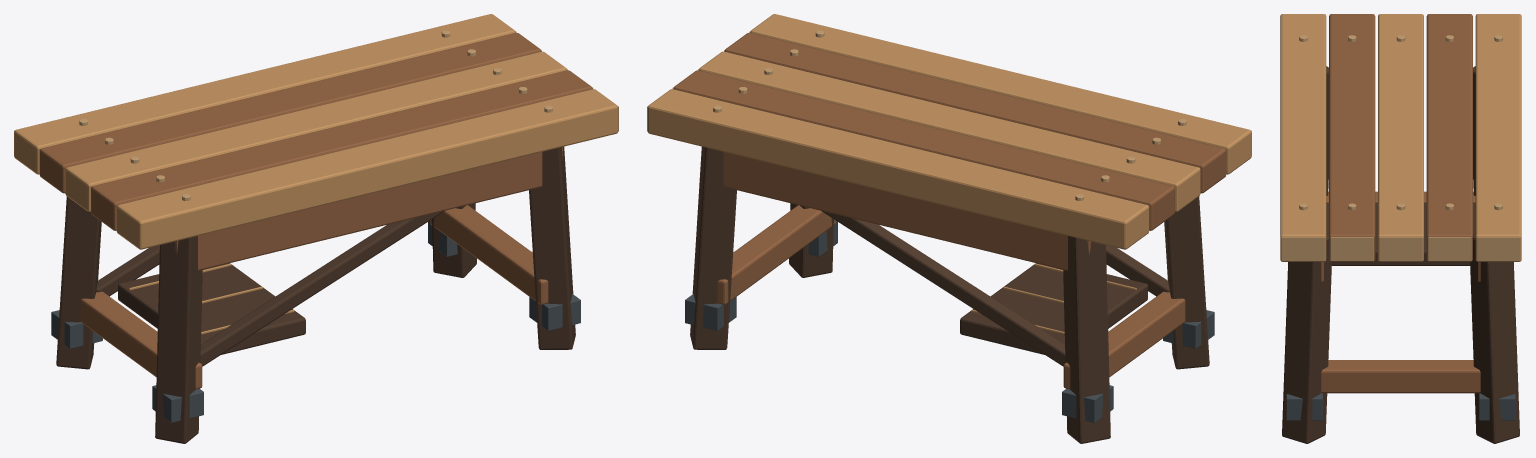
File: work_table.glb
The picture shows the model from 3 angles, left to right: view 1: azimuth 30°, elevation 25°; view 2: azimuth 150°, elevation 25°; view 3: azimuth 270°, elevation 25°; orthographic projection. The views are drawn at different scales.
Visible parts, largest first — view 1: work_table__structure, work_table__finish; view 2: work_table__structure, work_table__finish; view 3: work_table__structure, work_table__finish.
Part boxes in pixels (box(x1,y1,x2,y2)): work_table__structure: box(14, 14, 617, 443); work_table__finish: box(51, 30, 618, 422); work_table__structure: box(648, 14, 1251, 443); work_table__finish: box(647, 30, 1214, 422); work_table__structure: box(1280, 14, 1521, 443); work_table__finish: box(1281, 35, 1520, 420).
Bounding box in the file's own units: 1.93 × 0.9219 × 0.885.
